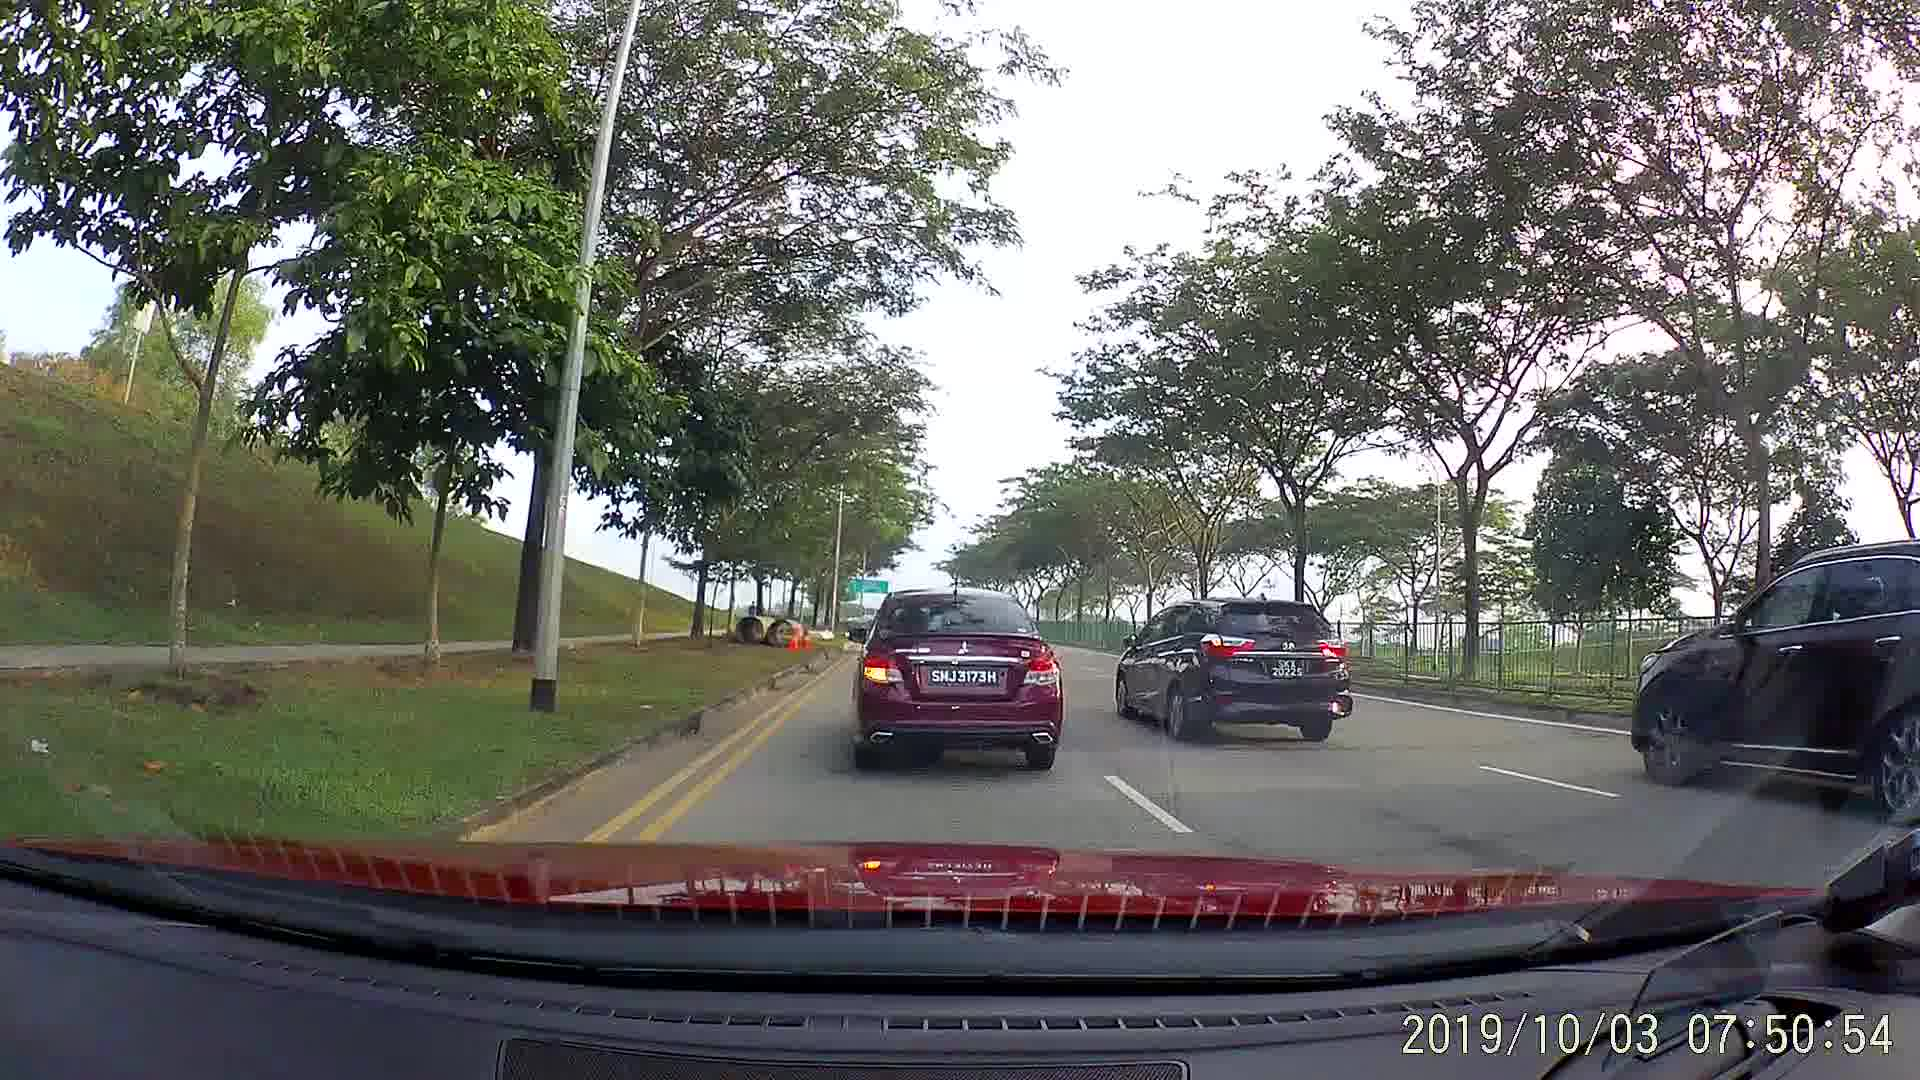car: (1638, 543, 1909, 825), (841, 587, 1065, 779), (1112, 591, 1356, 746)
